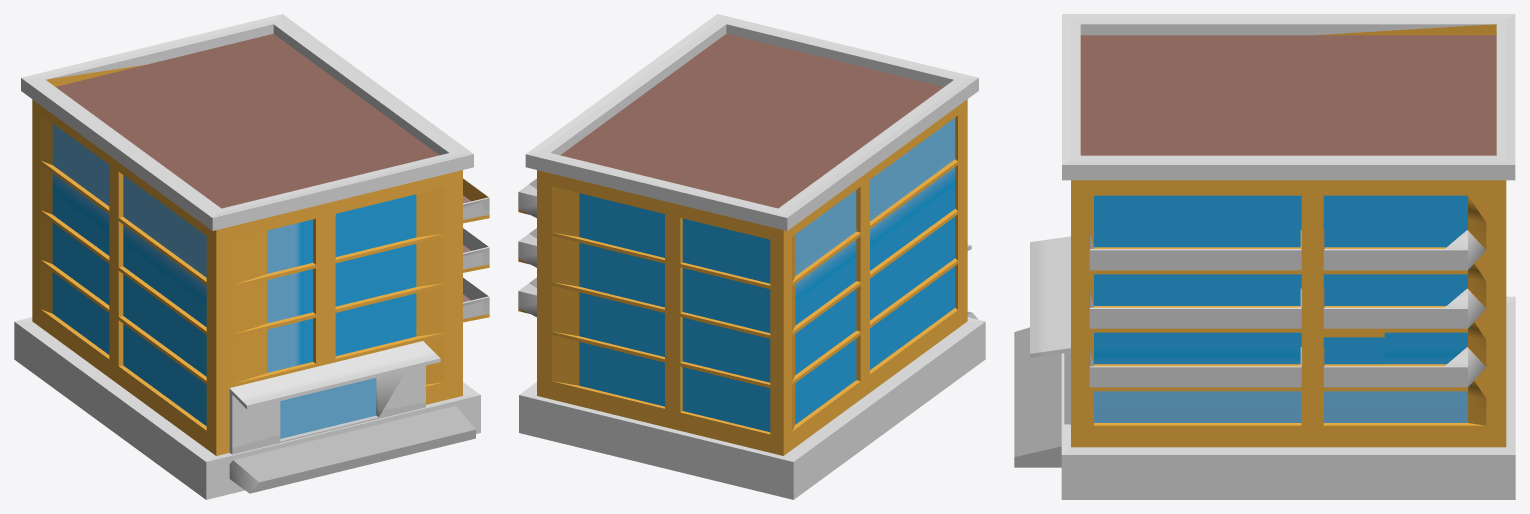
The model's file is OrangeBuilding6x8x7.fbx.
The picture shows the model from 3 angles, left to right: view 1: azimuth 30°, elevation 25°; view 2: azimuth 150°, elevation 25°; view 3: azimuth 270°, elevation 25°; orthographic projection. The views are drawn at different scales.
Parts seen in each view (by area): view 1: House; view 2: House; view 3: House.
Part boxes in pixels (x1,y1,x2,y2): House: [14, 14, 489, 499]; House: [518, 14, 985, 499]; House: [1014, 14, 1515, 499].
Size of the model in its own units: 7.82 by 7.09 by 9.73.
1 material, 1 textured.
